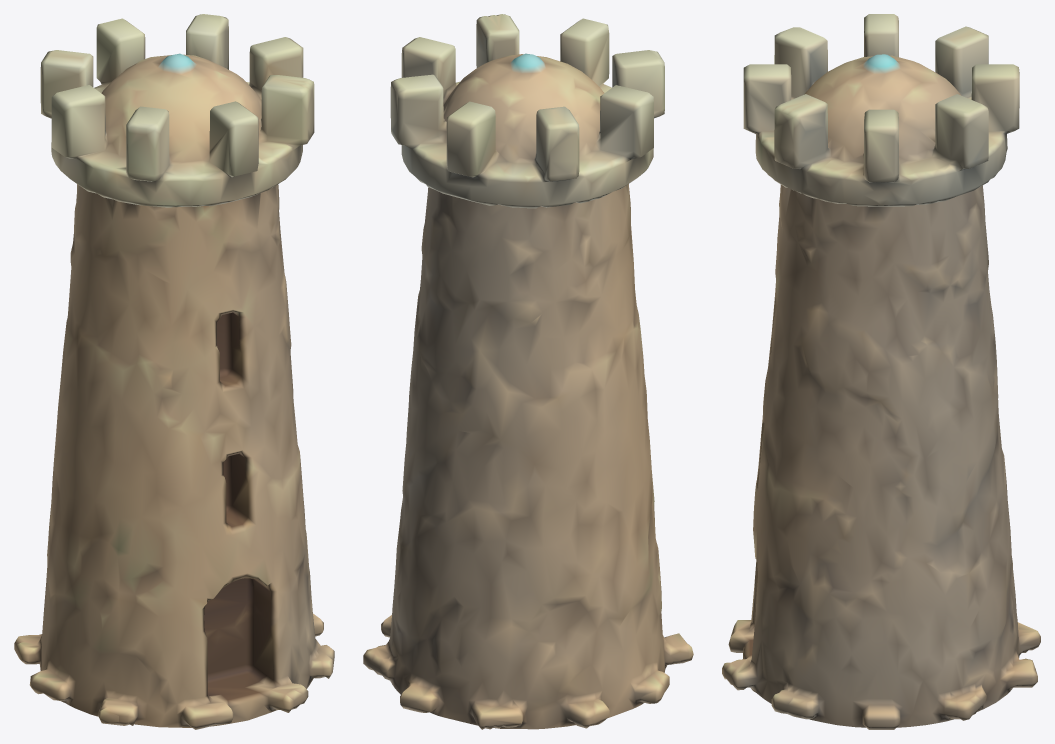
The model's file is env_se_tower.glb.
3 views of the same model, side by side, from view 1: azimuth 30°, elevation 25°; view 2: azimuth 150°, elevation 25°; view 3: azimuth 270°, elevation 25° (orthographic).
Visible parts, largest first — view 1: geometry_0; view 2: geometry_0; view 3: geometry_0.
Part boxes in pixels (x1=…): geometry_0: x1=14, y1=14, x2=334, y2=729; geometry_0: x1=363, y1=14, x2=693, y2=729; geometry_0: x1=722, y1=14, x2=1040, y2=729.
Bounding box in the file's own units: 5.15 × 10.86 × 5.08.
